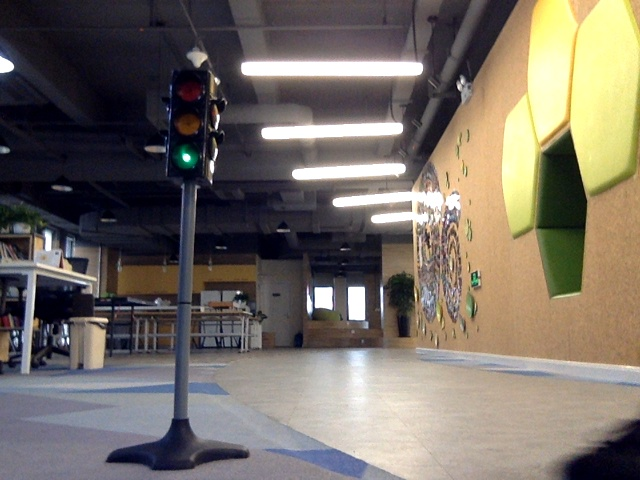green: (167, 81, 210, 176)
